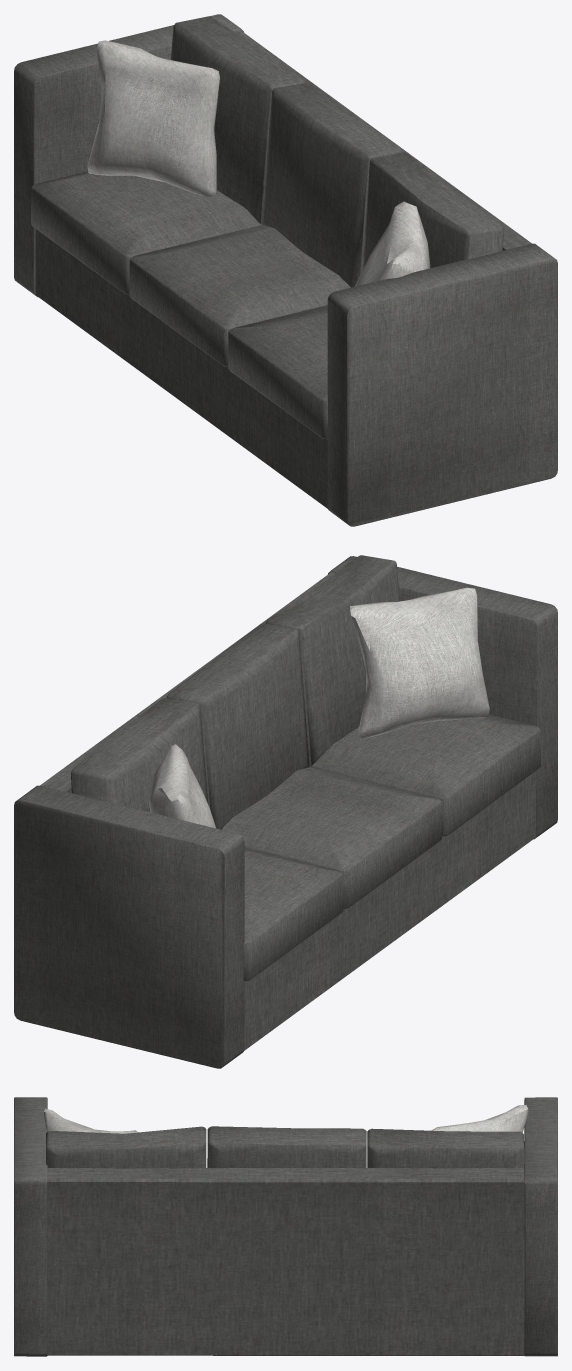
The model's file is Couch.glb.
The picture shows the model from 3 angles, top to bottom: view 1: azimuth 30°, elevation 25°; view 2: azimuth 150°, elevation 25°; view 3: azimuth 270°, elevation 25°; orthographic projection. The views are drawn at different scales.
Parts seen in each view (by area): view 1: couch; view 2: couch; view 3: couch.
Part boxes in pixels (x1=…): couch: x1=14, y1=14, x2=557, y2=526; couch: x1=14, y1=555, x2=557, y2=1068; couch: x1=14, y1=1097, x2=557, y2=1356.
Size of the model in its own units: 0.9779 by 1.09 by 2.63.
Materials: 1 (1 with a texture image).
